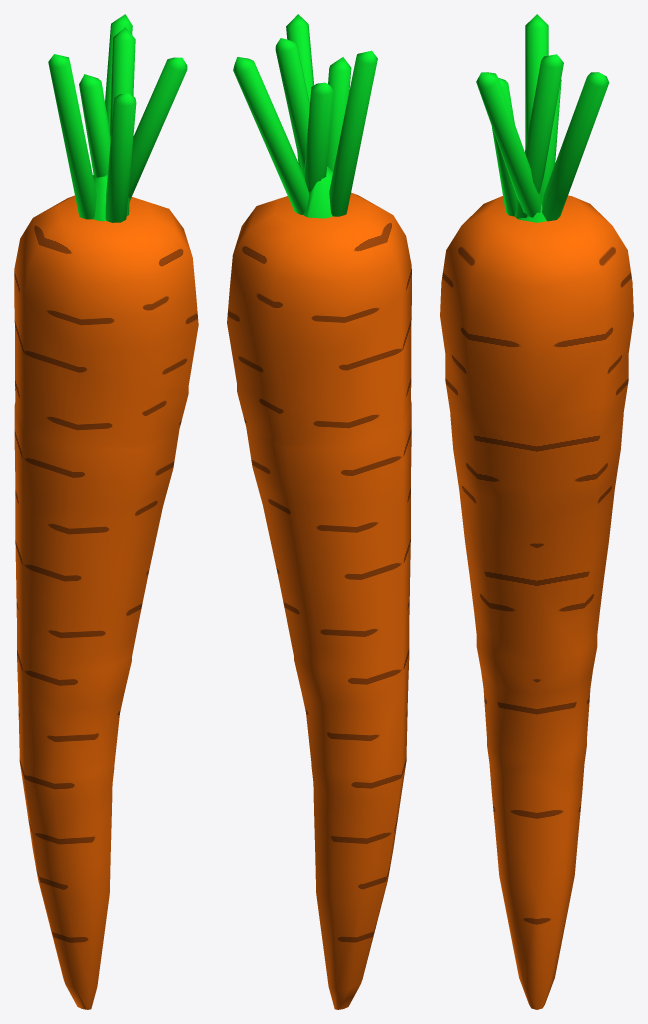
File: carrot.glb
3 views of the same model, side by side, from view 1: azimuth 30°, elevation 25°; view 2: azimuth 150°, elevation 25°; view 3: azimuth 270°, elevation 25° (orthographic).
Bounding box in the file's own units: 0.2163 × 1.2 × 0.2152.
2 materials, 1 textured.
